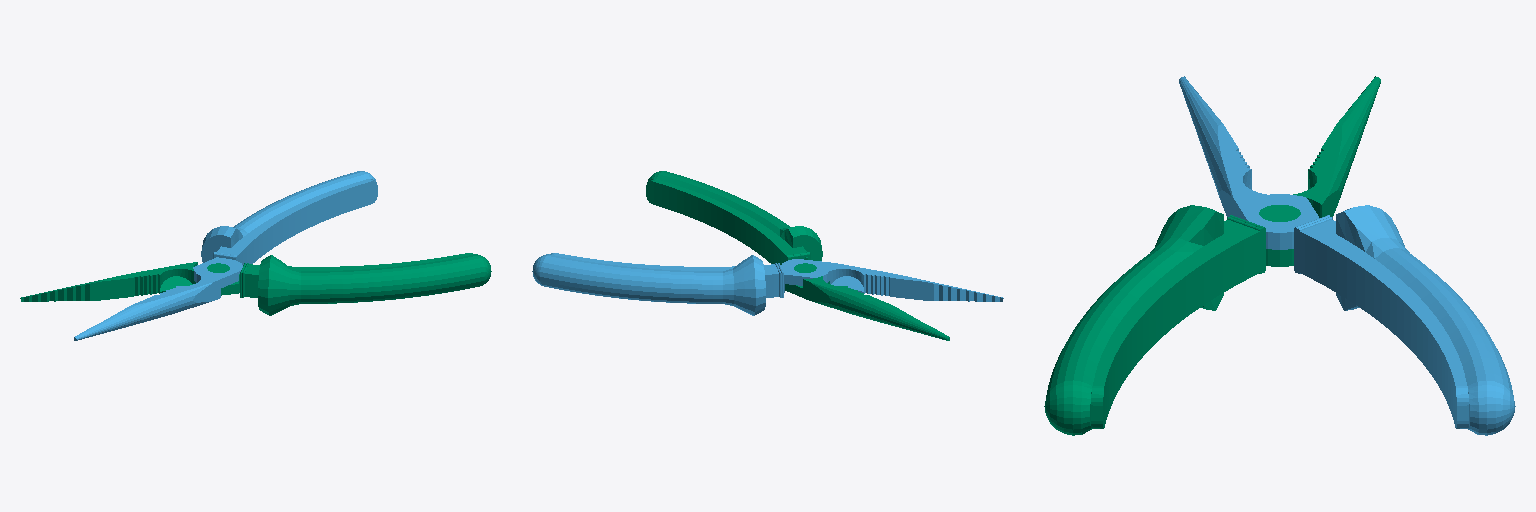
robot.urdf — partnet_ee3229daab48b2f3bfa59e044d401be9:
<?xml version="1.0" ?>
<robot name="partnet_ee3229daab48b2f3bfa59e044d401be9">
	<link name="base"/>
	<link name="link_0">
		<visual name="leg-1">
			<origin xyz="-0.01784125804901123 0 -0.2592040045559406"/>
			<geometry>
				<mesh filename="textured_objs/original-6.obj"/>
			</geometry>
		</visual>
		<visual name="leg-1">
			<origin xyz="-0.01784125804901123 0 -0.2592040045559406"/>
			<geometry>
				<mesh filename="textured_objs/original-7.obj"/>
			</geometry>
		</visual>
		<collision>
			<origin xyz="-0.01784125804901123 0 -0.2592040045559406"/>
			<geometry>
				<mesh filename="textured_objs/original-6.obj"/>
			</geometry>
		</collision>
		<collision>
			<origin xyz="-0.01784125804901123 0 -0.2592040045559406"/>
			<geometry>
				<mesh filename="textured_objs/original-7.obj"/>
			</geometry>
		</collision>
	</link>
	<joint name="joint_0" type="revolute">
		<origin xyz="0.01784125804901123 0 0.2592040045559406"/>
		<axis xyz="0 1 0"/>
		<child link="link_0"/>
		<parent link="link_1"/>
		<limit lower="0.0" upper="1.2217304763960306" effort="100" velocity="1"/>
	</joint>
	<link name="link_1">
		<visual name="base_body-2">
			<origin xyz="0 0 0"/>
			<geometry>
				<mesh filename="textured_objs/original-4.obj"/>
			</geometry>
		</visual>
		<visual name="base_body-2">
			<origin xyz="0 0 0"/>
			<geometry>
				<mesh filename="textured_objs/original-3.obj"/>
			</geometry>
		</visual>
		<visual name="base_body-2">
			<origin xyz="0 0 0"/>
			<geometry>
				<mesh filename="textured_objs/original-2.obj"/>
			</geometry>
		</visual>
		<collision>
			<origin xyz="0 0 0"/>
			<geometry>
				<mesh filename="textured_objs/original-4.obj"/>
			</geometry>
		</collision>
		<collision>
			<origin xyz="0 0 0"/>
			<geometry>
				<mesh filename="textured_objs/original-3.obj"/>
			</geometry>
		</collision>
		<collision>
			<origin xyz="0 0 0"/>
			<geometry>
				<mesh filename="textured_objs/original-2.obj"/>
			</geometry>
		</collision>
	</link>
	<joint name="joint_1" type="fixed">
		<origin rpy="1.570796326794897 0 -1.570796326794897" xyz="0 0 0"/>
		<child link="link_1"/>
		<parent link="base"/>
	</joint>
</robot>

--- Facts derived from the render (not from the file) ---
The picture shows the robot from 3 angles, left to right: view 1: azimuth 30°, elevation 25°; view 2: azimuth 150°, elevation 25°; view 3: azimuth 270°, elevation 25°; orthographic projection.
Robot: partnet_ee3229daab48b2f3bfa59e044d401be9 — 3 links, 2 joints (1 revolute, 1 fixed); root link base; default pose: all joints at 0.
Links seen in each view (by area): view 1: link_1, link_0; view 2: link_0, link_1; view 3: link_0, link_1.
Link boxes in pixels (x1=…): link_1: x1=20, y1=253, x2=491, y2=315; link_0: x1=74, y1=171, x2=377, y2=340; link_0: x1=532, y1=253, x2=1003, y2=315; link_1: x1=646, y1=171, x2=949, y2=340; link_0: x1=1179, y1=76, x2=1515, y2=435; link_1: x1=1044, y1=76, x2=1380, y2=435.
Size in the robot's own frame: 1.63 by 0.9619 by 0.2309 metres.
Meshes: 5 distinct files referenced, 5 mesh visuals loaded (5 OBJ).